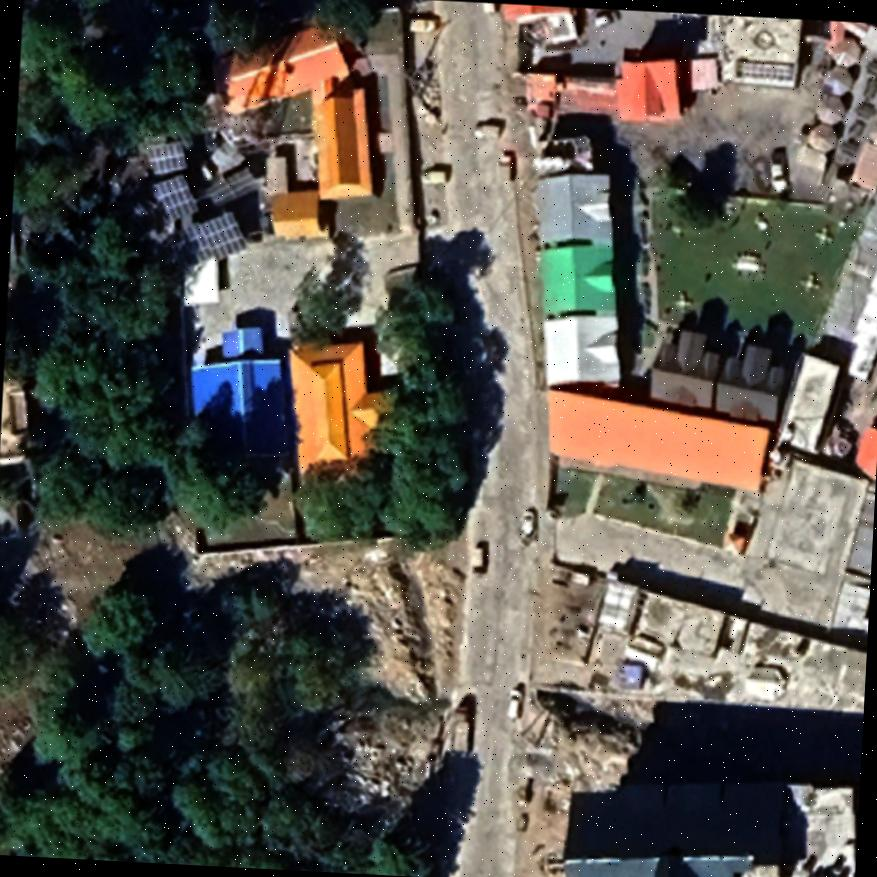Solarpanel: (183, 211, 254, 269), (200, 166, 263, 204), (151, 172, 198, 222), (144, 138, 187, 174)
